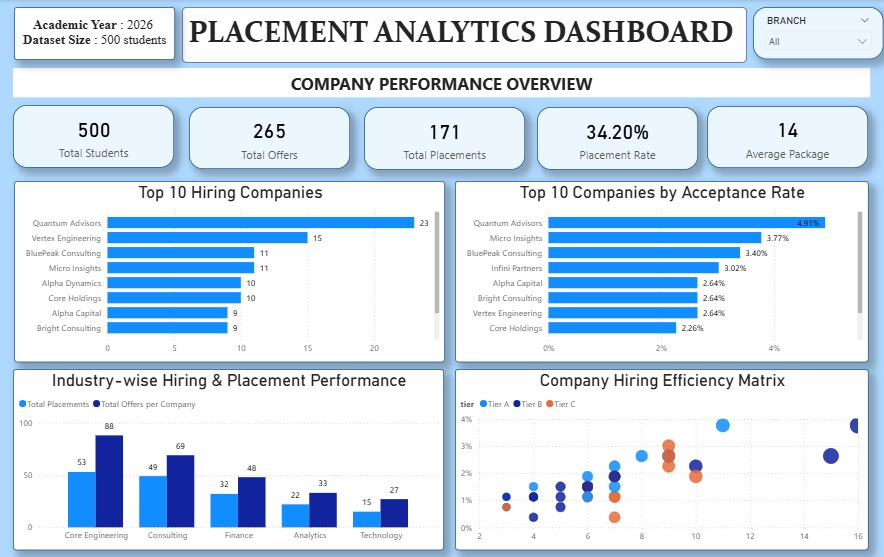

What the dashboard file says about the page in this screenshot:
{"tool":"powerbi","page":{"name":"Company Performance Overview","canvas":[1280,800],"ordinal":1},"visuals":[{"type":"card","fields":{"Values":["applications_cleaned.Total Applicants"]},"box":[21.7,151.8,231.3,89.6],"z":0},{"type":"card","fields":{"Values":["applications_cleaned.Total Offers"]},"box":[273.3,154.7,231,89],"z":1000},{"type":"card","fields":{"Values":["applications_cleaned.Students Placed"]},"box":[524.8,154.7,231.3,89.6],"z":2000},{"type":"textbox","box":[263.1,11.6,809.6,79.5],"z":3000},{"type":"textbox","box":[21.7,98.3,1228.9,41.9],"z":4000},{"type":"card","fields":{"Values":["applications_cleaned.Placement Rate"]},"box":[772,154.7,231.3,89.6],"z":5000},{"type":"slicer","fields":{"Values":["students_cleaned_scaled.branch"]},"box":[1082.9,11.6,186.5,75.2],"z":6000},{"type":"card","fields":{"Values":["applications_cleaned.Average Package"]},"box":[1016.4,153.3,231,89],"z":8000},{"type":"barChart","title":"Top 10 Hiring Companies","fields":{"Category":["companies_cleaned_scaled.company_name"],"Y":["applications_cleaned.Total Offers per Company"]},"box":[22.5,260.2,618.5,260.2],"z":9000},{"type":"barChart","title":"Top 10 Companies by Acceptance Rate","fields":{"Category":["companies_cleaned_scaled.company_name"],"Y":["applications_cleaned.Offer Acceptance Rate"]},"box":[655.4,260.2,592.8,260.2],"z":10000},{"type":"clusteredColumnChart","title":"Industry-wise Hiring & Placement Performance","fields":{"Category":["companies_cleaned_scaled.industry"],"Y":["applications_cleaned.Total Placements","applications_cleaned.Total Offers per Company"]},"box":[22,530,618,260],"z":11000},{"type":"scatterChart","title":"Company Hiring Efficiency Matrix","fields":{"X":["applications_cleaned.Total Offers per Company"],"Y":["applications_cleaned.Offer Acceptance Rate"],"Size":["applications_cleaned.Total Offers per Company"],"Series":["companies_cleaned_scaled.tier"],"Category":["companies_cleaned_scaled.company_name"]},"box":[655.4,530.1,592.8,260.2],"z":12000},{"type":"textbox","box":[22.5,11.2,231.3,75.5],"z":12001}]}

Visuals, with their boxes in screenshot pixels (x1, y1, x2, y2), scaled from the page's 1280x800 canvas onto the 884x557 screenshot:
card - applications_cleaned.Total Applicants: 15,106,175,168
card - applications_cleaned.Total Offers: 189,108,348,170
card - applications_cleaned.Students Placed: 362,108,522,170
textbox: 182,8,741,63
textbox: 15,68,864,98
card - applications_cleaned.Placement Rate: 533,108,693,170
slicer - students_cleaned_scaled.branch: 748,8,877,60
card - applications_cleaned.Average Package: 702,107,861,169
"Top 10 Hiring Companies" barChart: 16,181,443,362
"Top 10 Companies by Acceptance Rate" barChart: 453,181,862,362
"Industry-wise Hiring & Placement Performance" clusteredColumnChart: 15,369,442,550
"Company Hiring Efficiency Matrix" scatterChart: 453,369,862,550
textbox: 16,8,175,60
